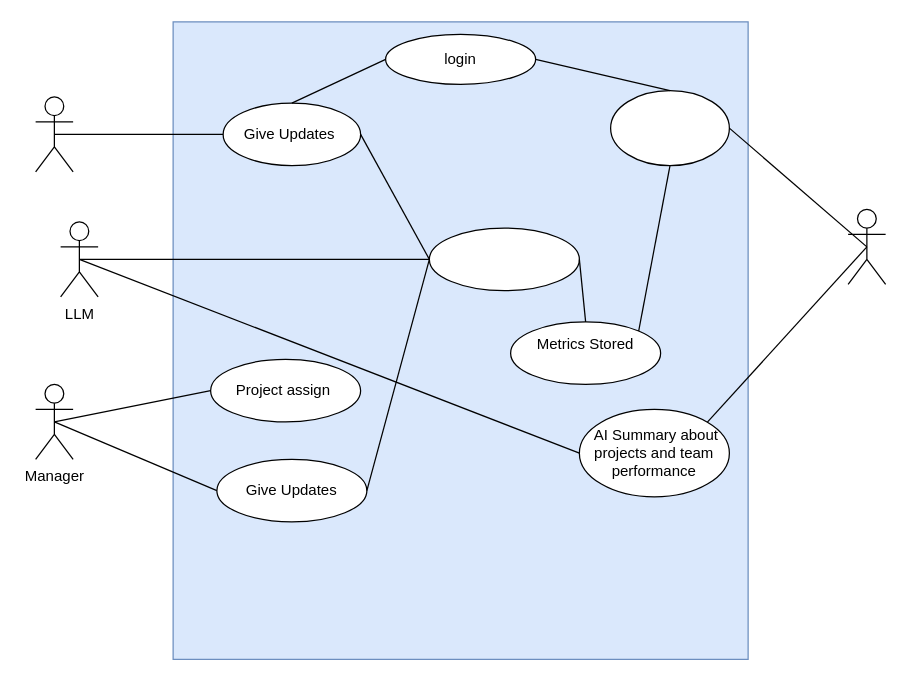
The diagram is 921 pixels wide and 681 high, and some of its shapes have lost their labels. The shapes that lost their labels are listed below. From the top down, each one's centre as x and y in pixels, then its label:
point 53,134: Employee
point 669,127: View Analytics
point 503,259: Metric Extractions
point 866,246: Executive
